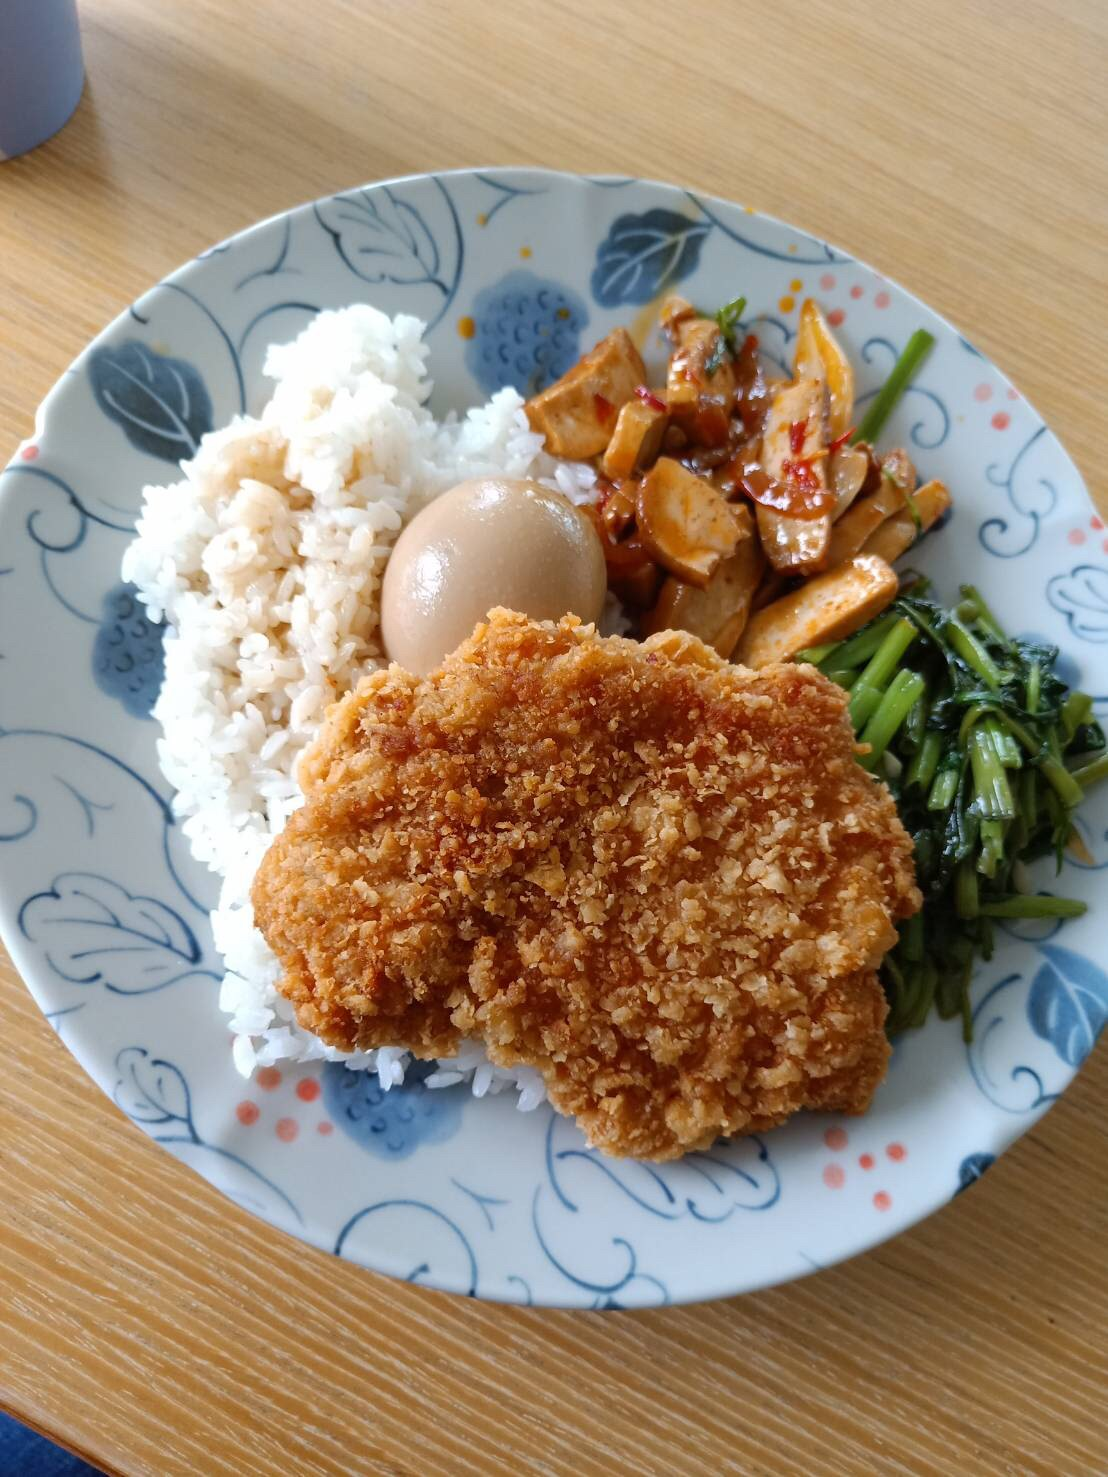fried_chicken: (243, 611, 921, 1179)
rice: (125, 365, 416, 684)
water_spinach: (855, 584, 1106, 996)
